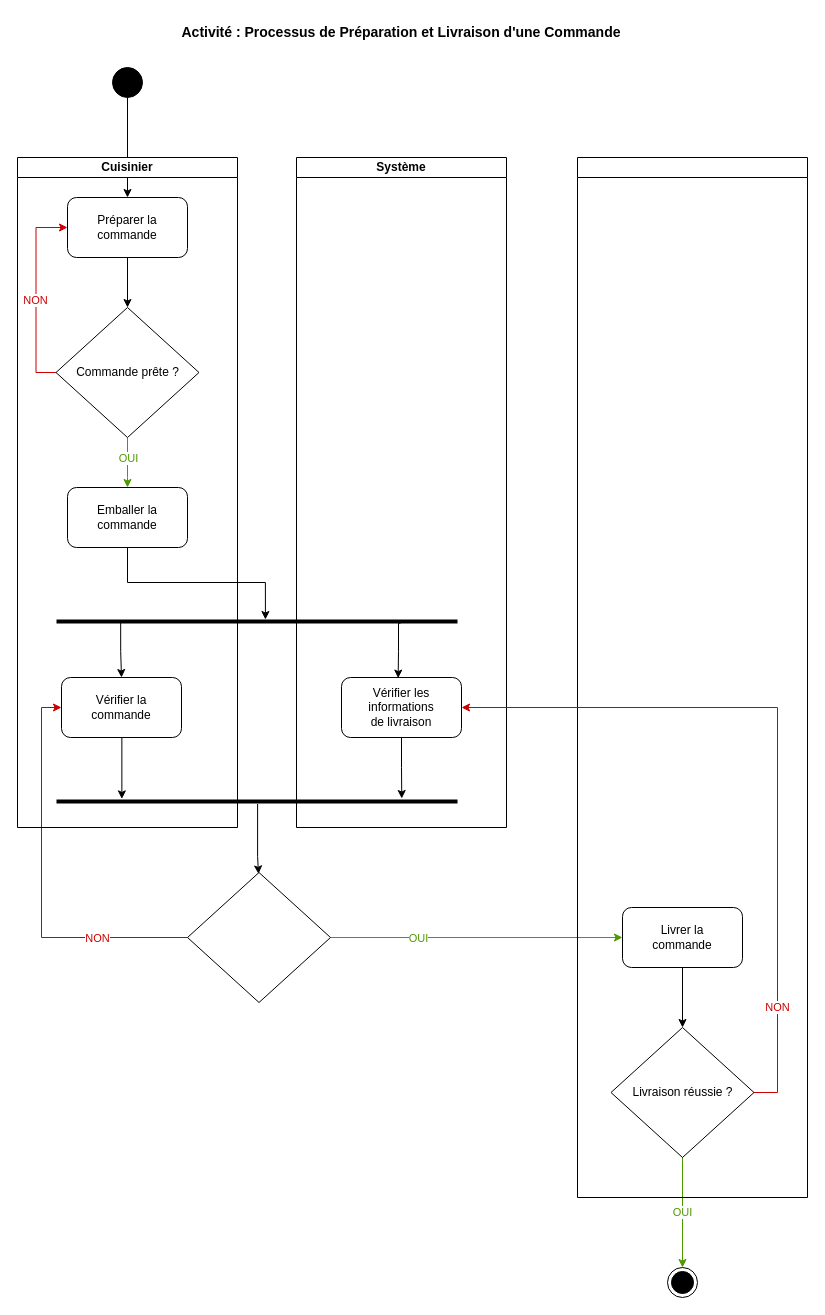
The diagram is 825 pixels wide and 1315 high, and some of its shapes have lost their labels. The shapes that lost their labels are listed below. From the top down, each one's centre as x and y in pixels, then its label:
(x=692, y=677): Livreur
(x=258, y=937): Commande prête pour la livraison ?
